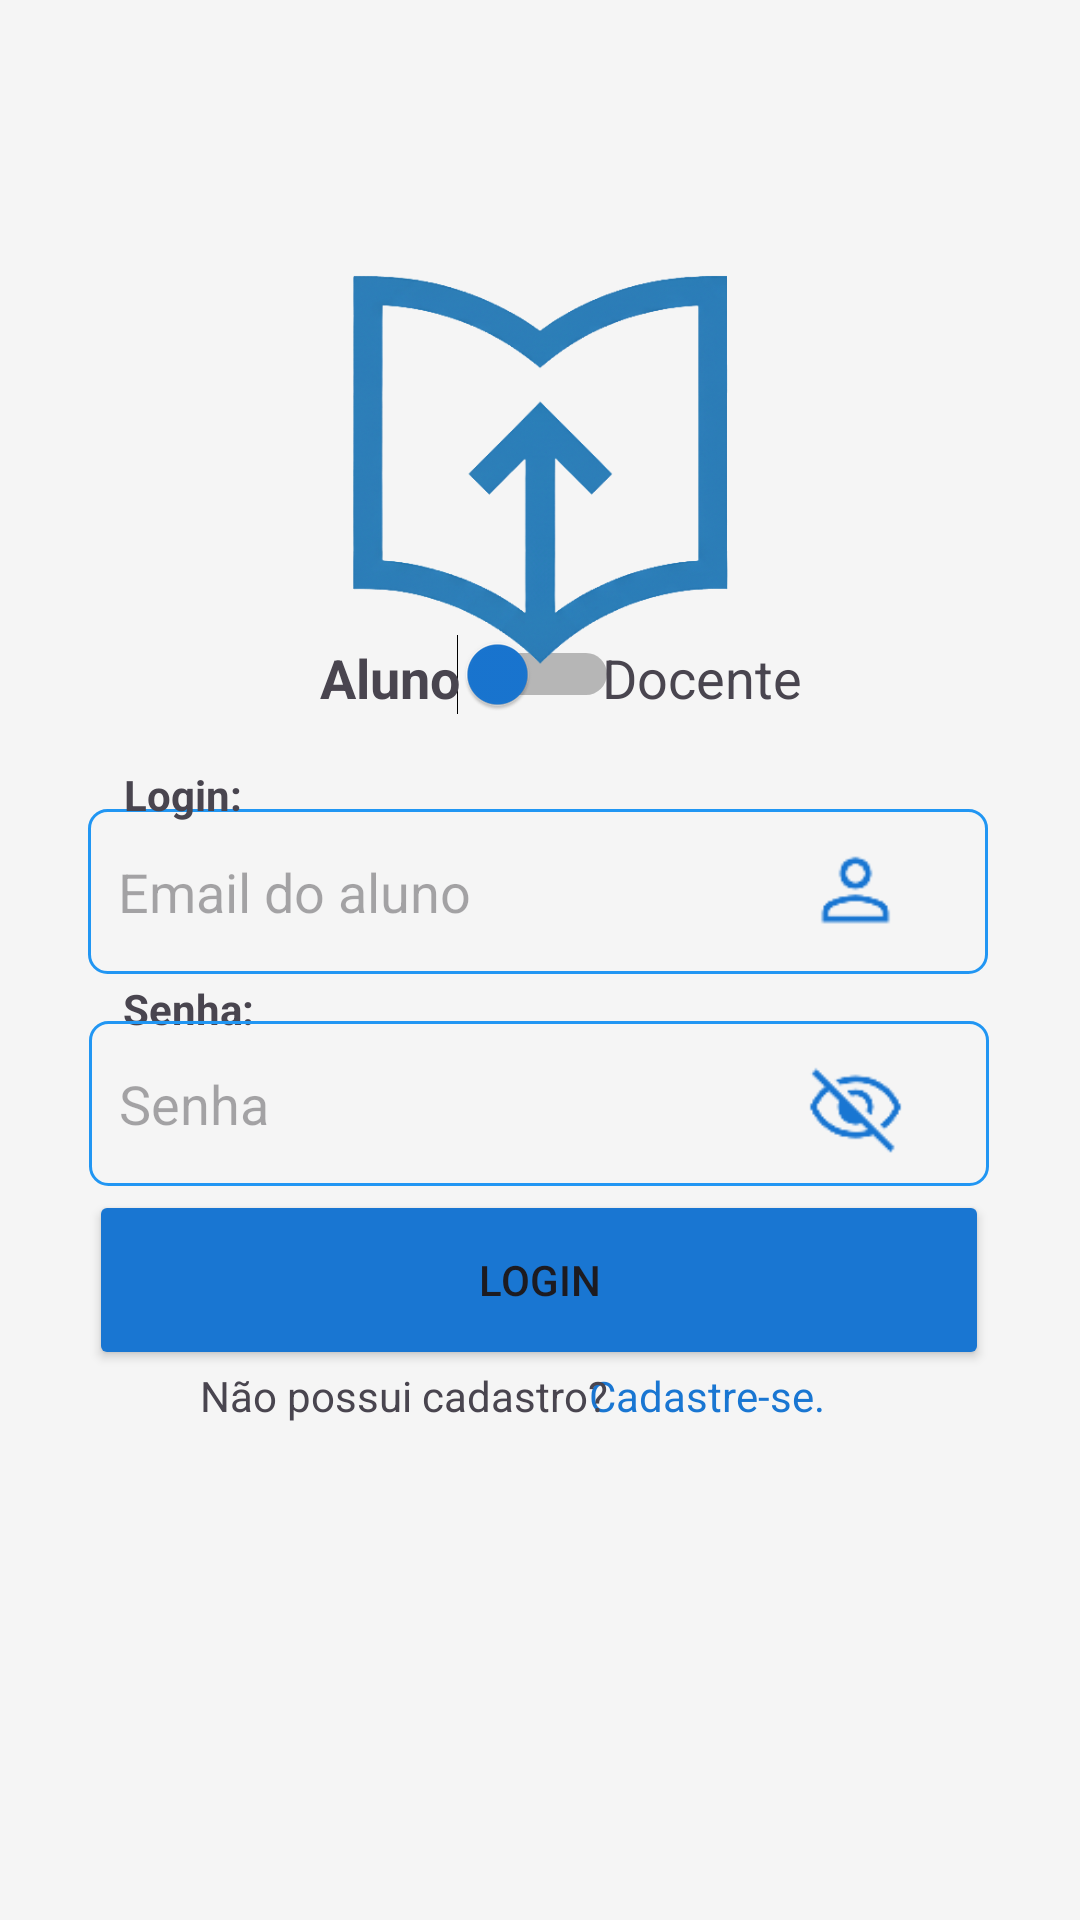

Icons on this 1080x1920 Android screen, each with the point to tap as (x,y):
fechado: (855,1110)
pessoa: (855,890)
